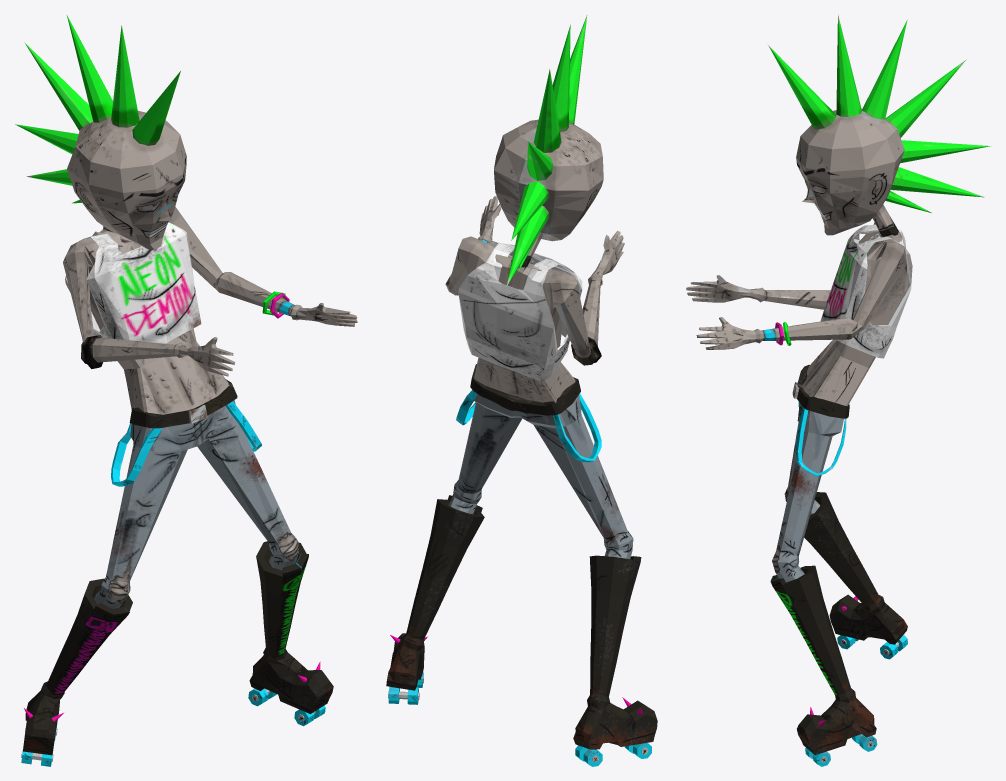
The model's file is punkAnimation_000059.obj.
3 views of the same model, side by side, from view 1: azimuth 30°, elevation 25°; view 2: azimuth 150°, elevation 25°; view 3: azimuth 270°, elevation 25° (orthographic). The views are drawn at different scales.
Parts seen in each view (by area): view 1: Cube.004_Cube.003; view 2: Cube.004_Cube.003; view 3: Cube.004_Cube.003.
Part boxes in pixels (left/top/right/bottom): Cube.004_Cube.003: left=15, top=15, right=357, bottom=766; Cube.004_Cube.003: left=386, top=15, right=657, bottom=766; Cube.004_Cube.003: left=686, top=15, right=990, bottom=766.
Bounding box in the file's own units: 2.97 × 7.17 × 2.97.
